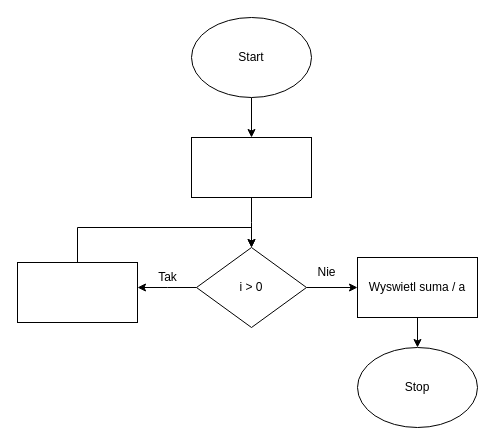
The diagram is 495 pixels wide and 445 high, and some of its shapes have lost their labels. Here are the shapes that lost their labels. From the top down, the box of each, then its label:
(190, 136, 312, 198): podaj liczbę ocen = a i=a suma = 0
(16, 262, 138, 322): pobierz n suma = suma + n i = i - 1
